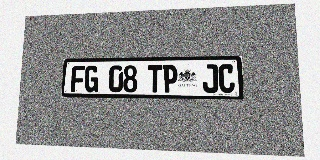0: (109, 65, 123, 92)
8: (123, 65, 138, 92)
C: (218, 64, 235, 93)
F: (71, 66, 85, 92)
G: (84, 65, 99, 92)
J: (202, 64, 218, 93)
P: (163, 65, 178, 93)
T: (148, 65, 162, 92)
